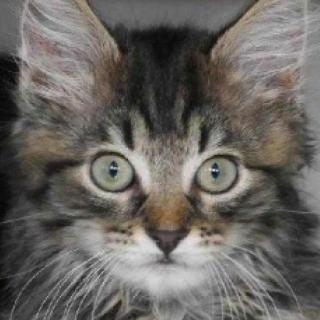cat: (17, 0, 318, 300)
nose: (140, 201, 197, 258)
